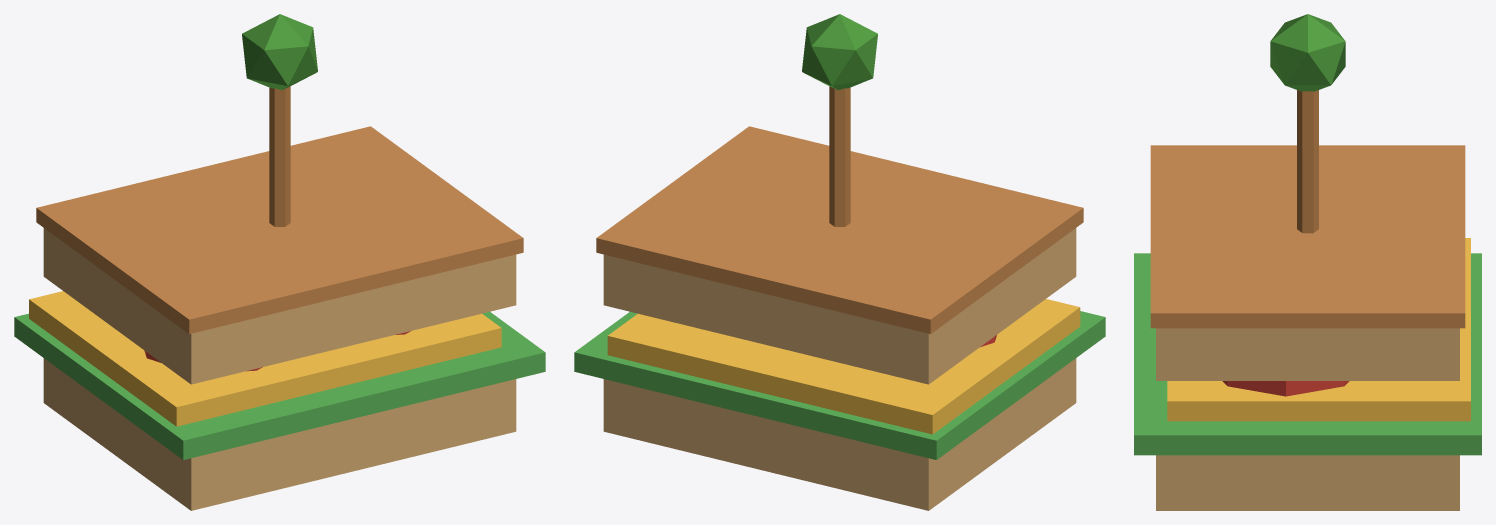
The model's file is CatCafe_Prop_PicnicSandwich.glb.
The picture shows the model from 3 angles, left to right: view 1: azimuth 30°, elevation 25°; view 2: azimuth 150°, elevation 25°; view 3: azimuth 270°, elevation 25°; orthographic projection. The views are drawn at different scales.
Visible parts, largest first — view 1: CatCafe_Prop_PicnicSandwich; view 2: CatCafe_Prop_PicnicSandwich; view 3: CatCafe_Prop_PicnicSandwich.
Part boxes in pixels (left/top/right/bottom): CatCafe_Prop_PicnicSandwich: left=14, top=14, right=545, bottom=510; CatCafe_Prop_PicnicSandwich: left=574, top=14, right=1105, bottom=510; CatCafe_Prop_PicnicSandwich: left=1134, top=14, right=1481, bottom=510.
Size of the model in its own units: 0.78 by 0.83 by 0.63.
Materials: 1 (1 with a texture image).
